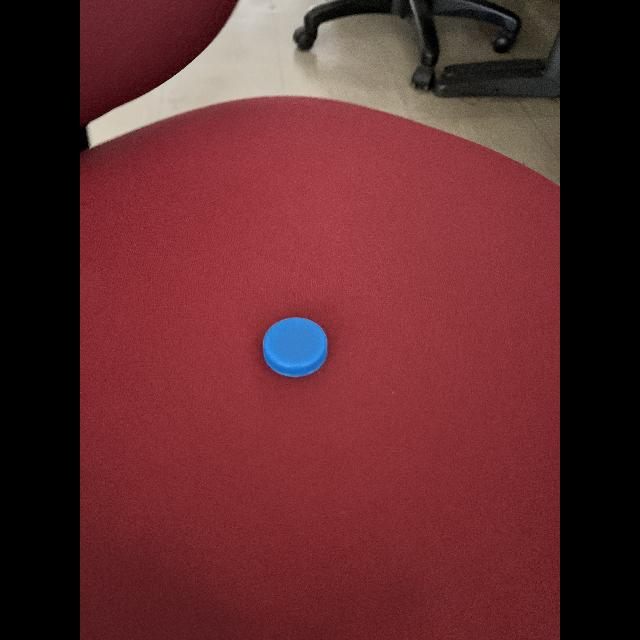plastic_bottle_cap: (262, 312, 332, 384)
